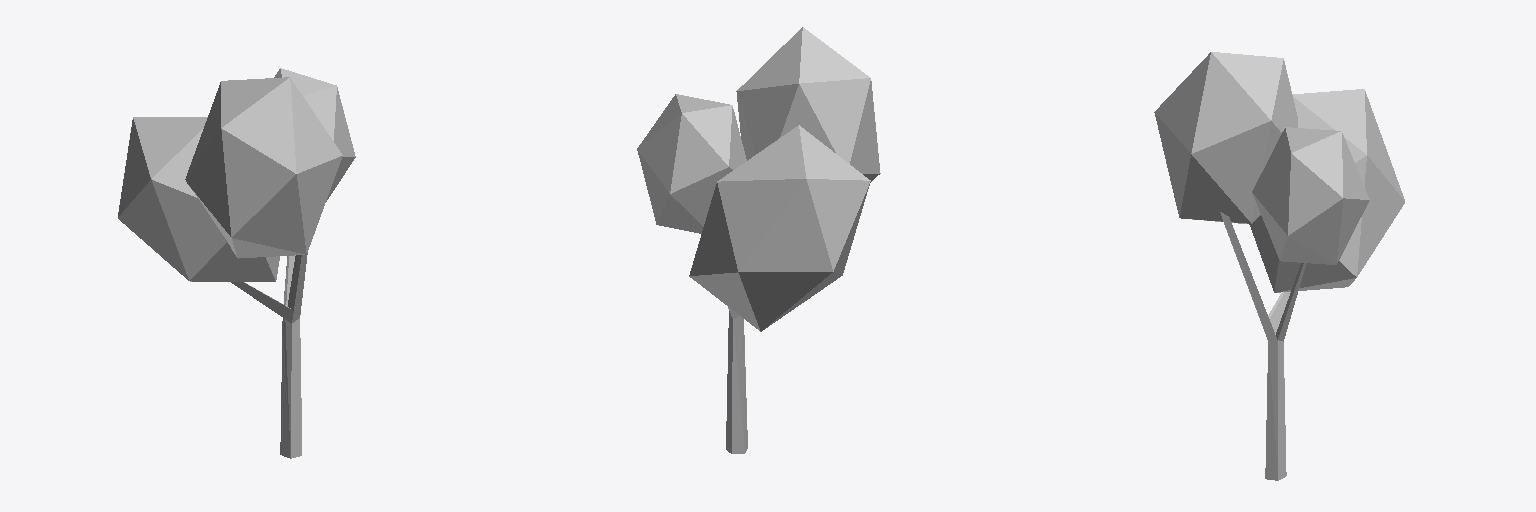
The model's file is tree2.obj.
The picture shows the model from 3 angles: view 1: azimuth 30°, elevation 25°; view 2: azimuth 150°, elevation 25°; view 3: azimuth 270°, elevation 25°; orthographic projection.
Visible parts, largest first — view 1: tree2Yellow_Cylinder.004; view 2: tree2Yellow_Cylinder.004; view 3: tree2Yellow_Cylinder.004.
Boxes of the visible parts, <box> form: tree2Yellow_Cylinder.004: <box>118,68,355,458</box>; tree2Yellow_Cylinder.004: <box>637,27,880,453</box>; tree2Yellow_Cylinder.004: <box>1154,52,1404,480</box>.
Bounding box in the file's own units: 2.56 × 4.8 × 2.68.